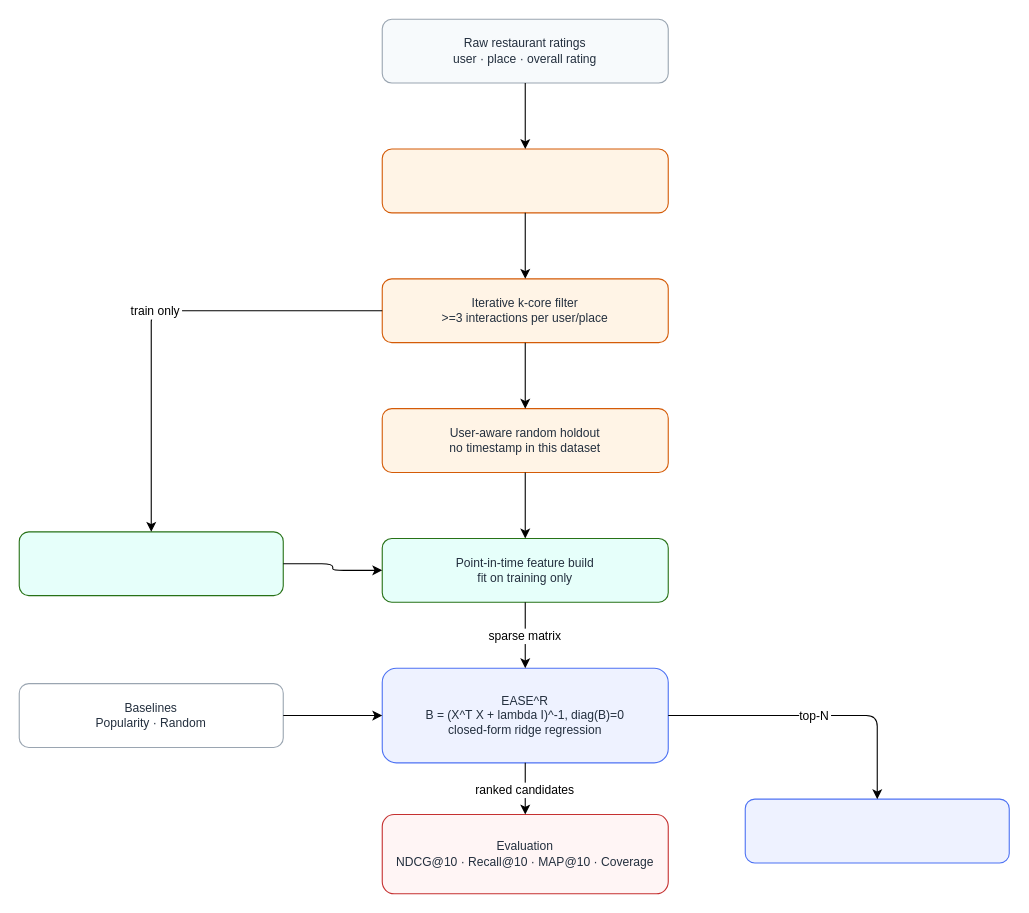
This 1029x913 diagram has some shape labels left out. The box of each missing label's shape, as (x1, y1, x2, y2) in pixels:
Feature registry conf/features.yaml: (18, 531, 283, 596)
Implicit view rating >= 1 -> positive: (381, 148, 668, 213)
Top-N publication DynamoDB · parity-tested: (744, 798, 1009, 863)
